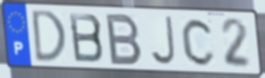2: (219, 16, 253, 70)
B: (105, 12, 145, 67), (67, 11, 106, 64)
C: (180, 16, 217, 68)
D: (31, 9, 69, 65)
J: (148, 14, 177, 67)
